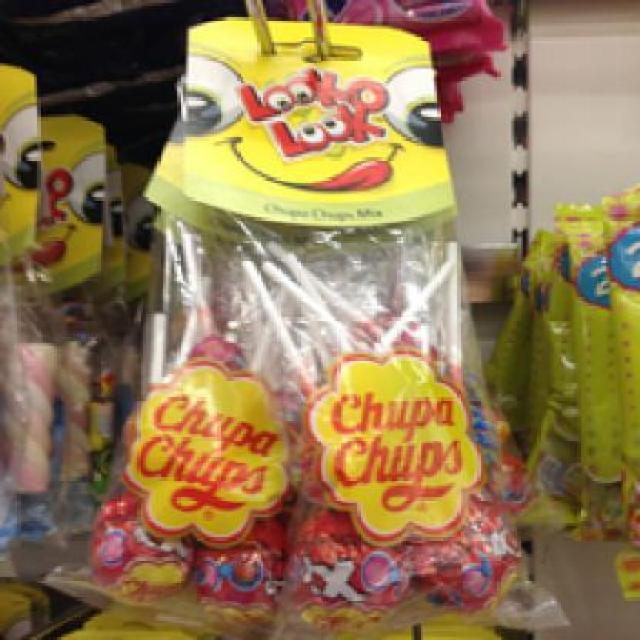Candy: (170, 20, 464, 597)
